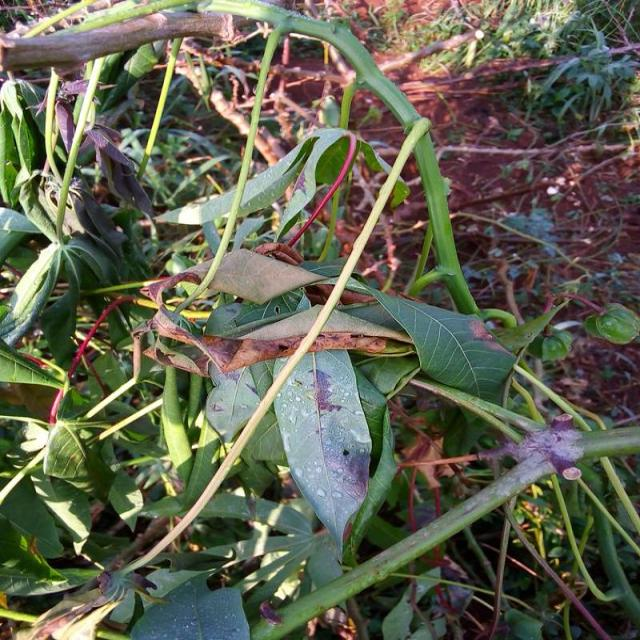cassava leaf: (272, 347, 374, 562)
